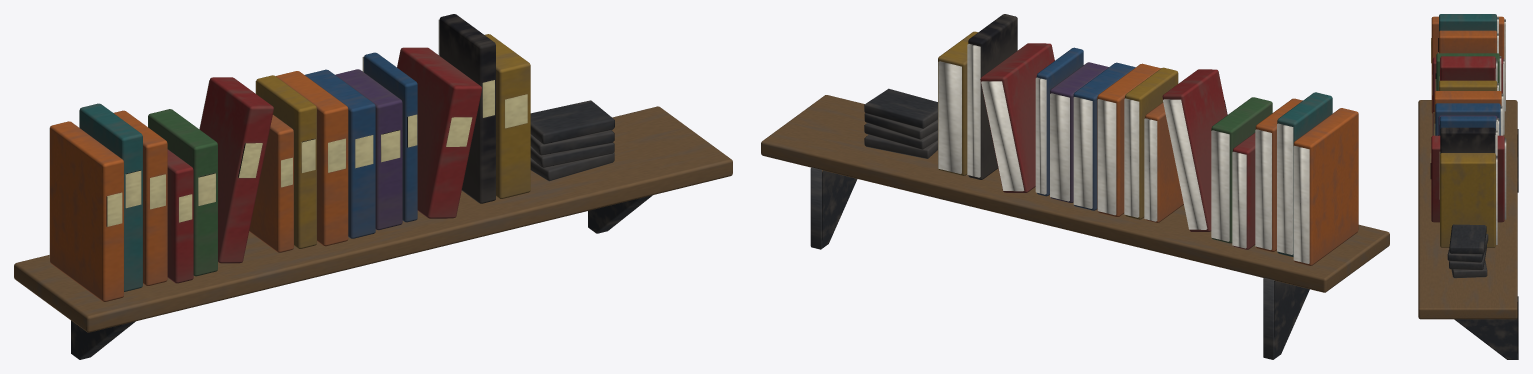
The model's file is dom_polka.glb.
The picture shows the model from 3 angles, left to right: view 1: azimuth 30°, elevation 25°; view 2: azimuth 150°, elevation 25°; view 3: azimuth 270°, elevation 25°; orthographic projection. The views are drawn at different scales.
Parts seen in each view (by area): view 1: Ksiazki, Polka; view 2: Ksiazki, Polka; view 3: Ksiazki, Polka.
Boxes of the visible parts, <box> form: Ksiazki: <box>49,14,614,301</box>; Polka: <box>14,106,732,359</box>; Ksiazki: <box>864,14,1358,265</box>; Polka: <box>761,95,1389,359</box>; Ksiazki: <box>1430,14,1506,278</box>; Polka: <box>1418,100,1518,359</box>.
Size of the model in its own units: 1 by 0.3912 by 0.202.
2 materials, 2 textured.
